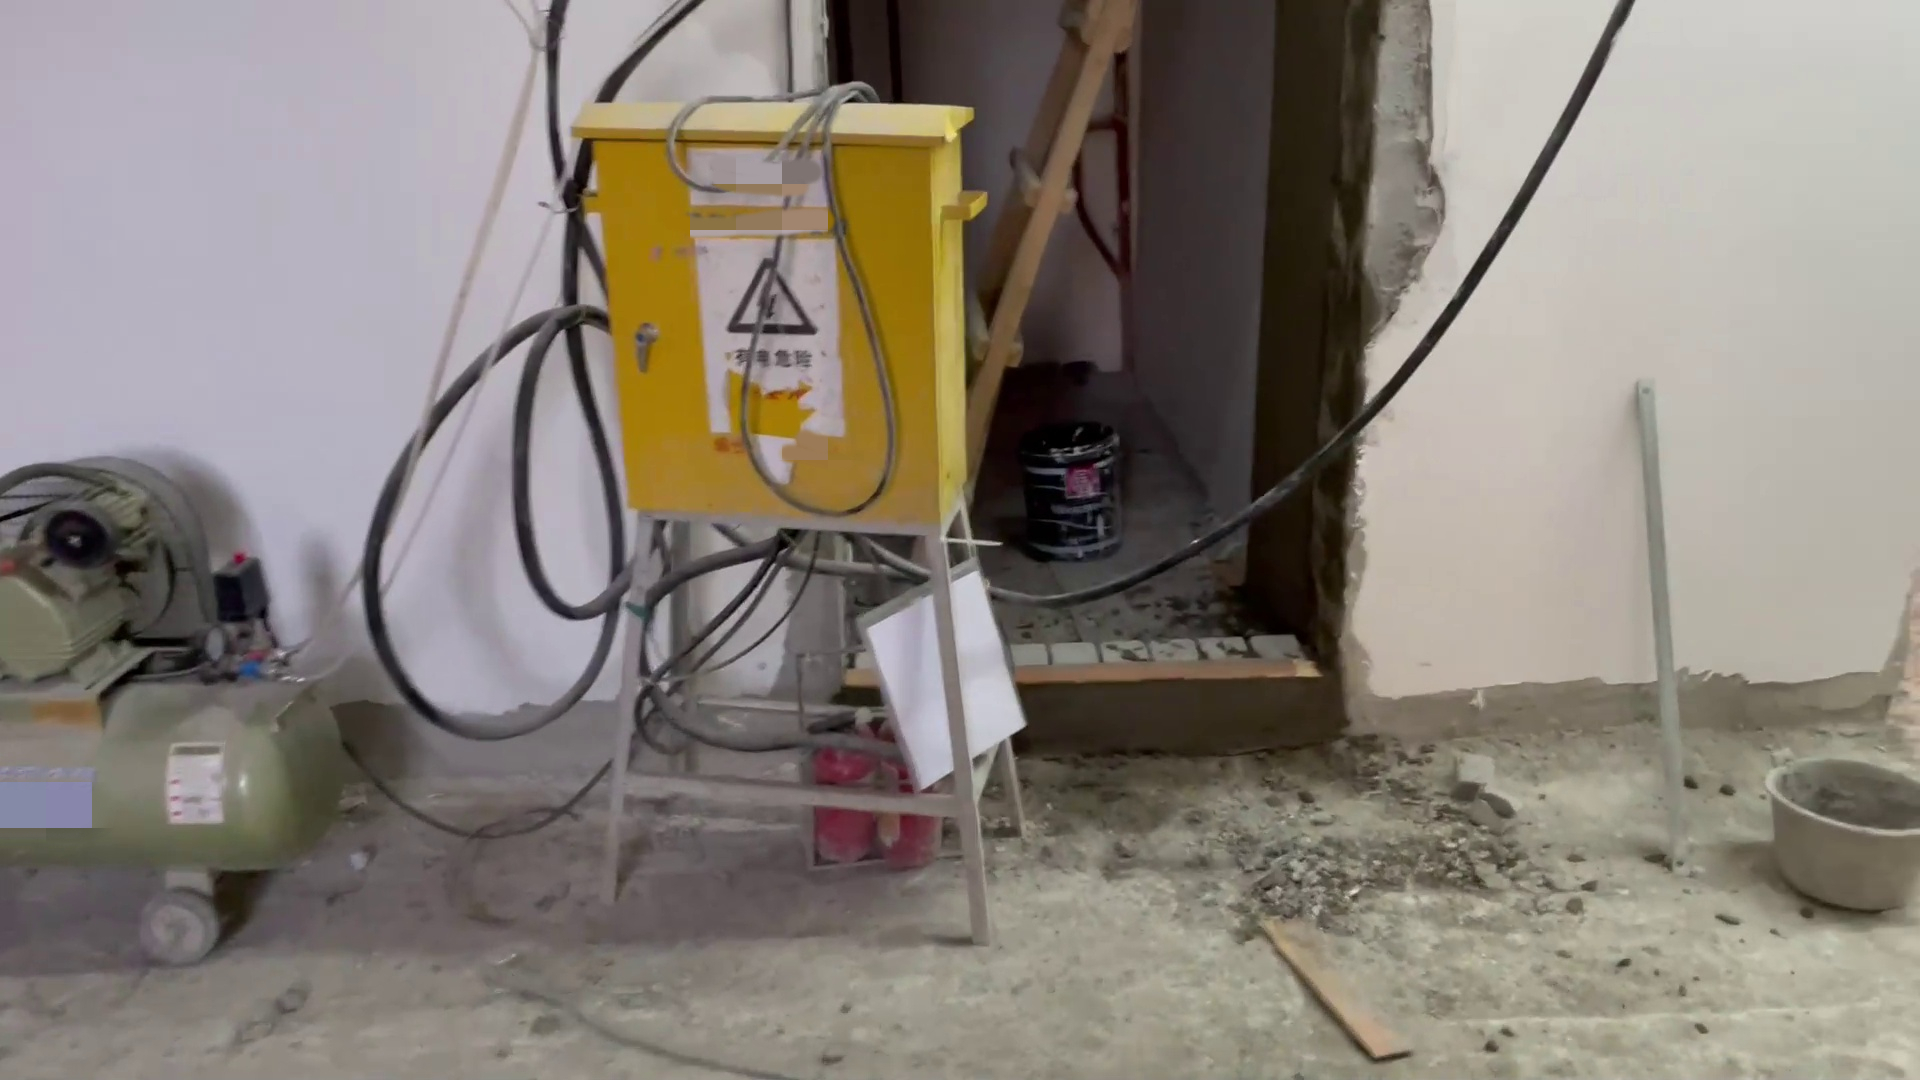ebox: (556, 80, 1047, 924)
